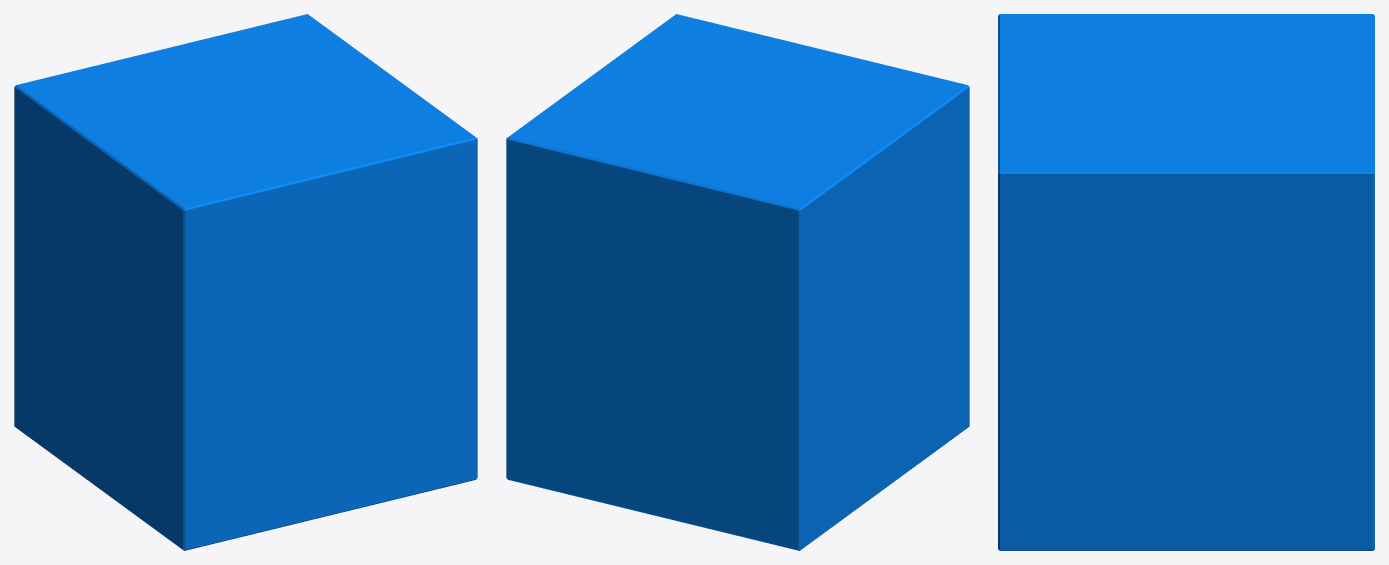
Rendered from head_4.obj.
The picture shows the model from 3 angles, left to right: view 1: azimuth 30°, elevation 25°; view 2: azimuth 150°, elevation 25°; view 3: azimuth 270°, elevation 25°; orthographic projection. The views are drawn at different scales.
Parts seen in each view (by area): view 1: pCube20; view 2: pCube20; view 3: pCube20.
Part boxes in pixels (x1,y1,x2,y2): pCube20: (14,14,477,550); pCube20: (506,14,969,550); pCube20: (998,14,1374,550).
Bounding box in the file's own units: 0.675 × 0.75 × 0.675.
Materials: 1 (1 with a texture image).
